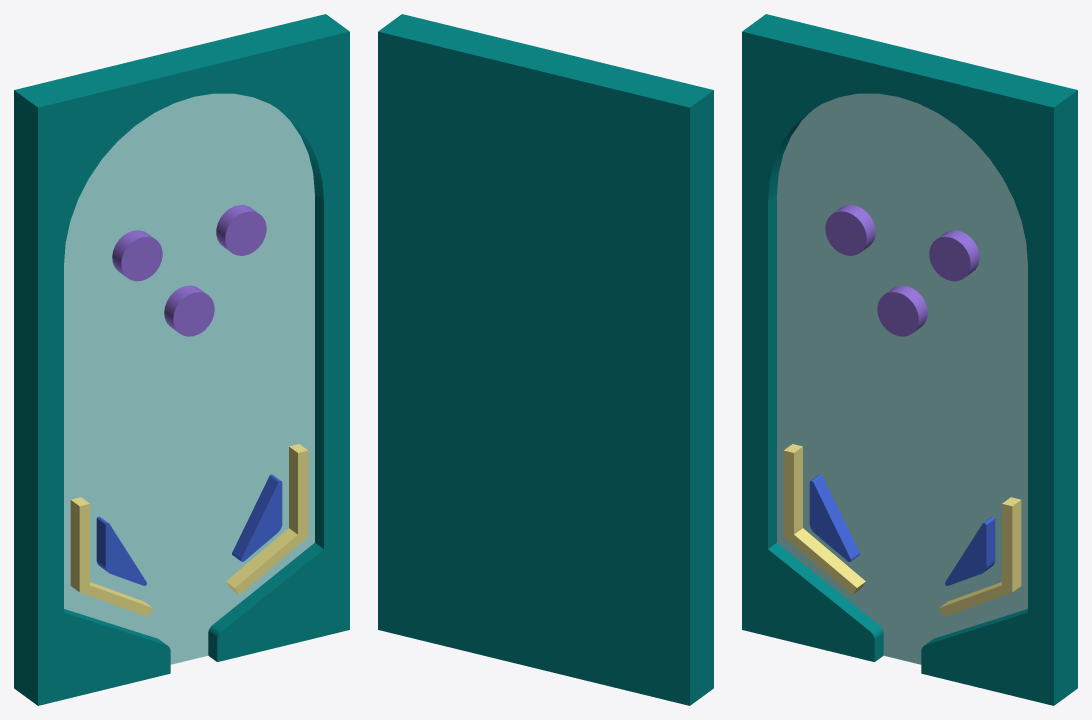
The picture shows the model from 3 angles, left to right: view 1: azimuth 30°, elevation 25°; view 2: azimuth 150°, elevation 25°; view 3: azimuth 330°, elevation 25°; orthographic projection.
Parts seen in each view (by area): view 1: SketchUp (×9); view 2: SketchUp; view 3: SketchUp (×9).
Part boxes in pixels (x1,y1,x2,y2): SketchUp (×9): (14, 14, 349, 705); SketchUp: (378, 14, 713, 705); SketchUp (×9): (742, 14, 1077, 705).
Size of the model in its own units: 2362 by 315 by 4331.
